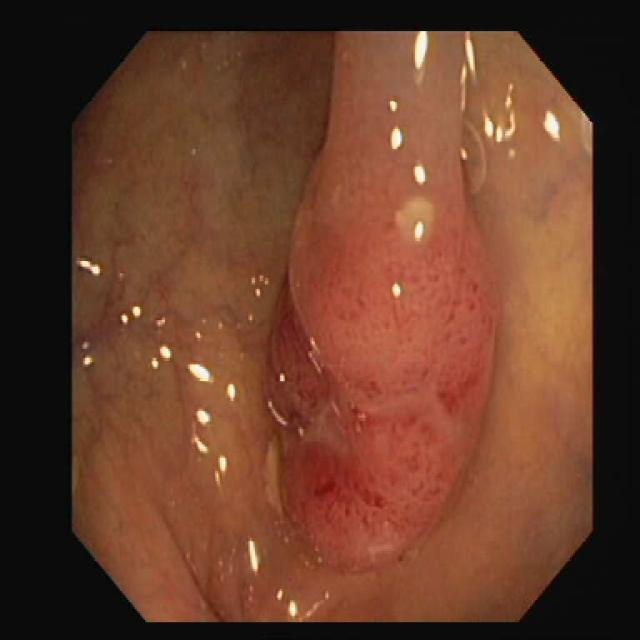tumor: (272, 33, 488, 564)
